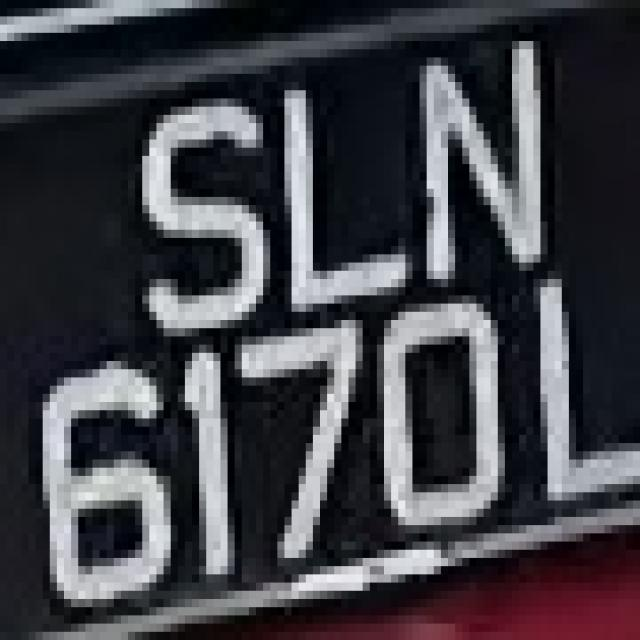0: (363, 287, 519, 558)
1: (171, 312, 263, 624)
6: (7, 344, 178, 624)
7: (235, 304, 362, 566)
L: (256, 49, 420, 328), (526, 246, 640, 533)
N: (391, 24, 555, 296)
S: (121, 82, 270, 353)
